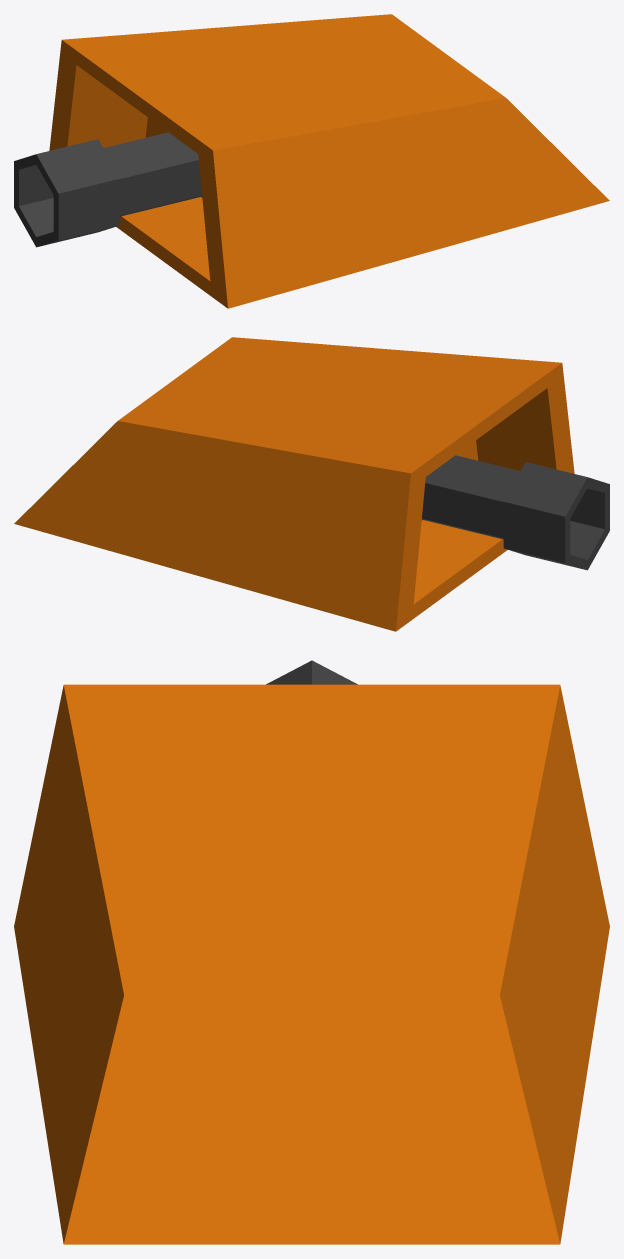
File: Mining Laser.FBX
3 renders of one model, top to bottom at view 1: azimuth 30°, elevation 25°; view 2: azimuth 150°, elevation 25°; view 3: azimuth 270°, elevation 25°, orthographic. The views are drawn at different scales.
Visible parts, largest first — view 1: Box001; view 2: Box001; view 3: Box001.
Boxes of the visible parts, x1,y1,x2,y2 form: Box001: (14,14,609,308); Box001: (14,337,609,631); Box001: (14,660,609,1244).
Size of the model in its own units: 25.09 by 7.09 by 15.84.
